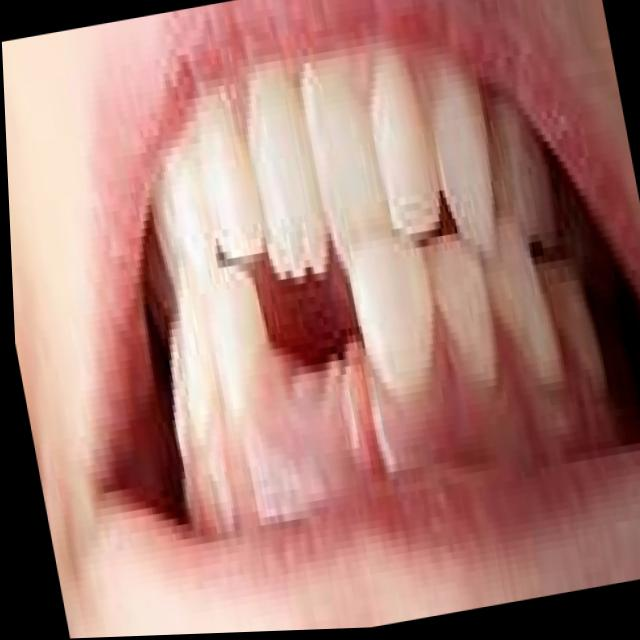hypodontia: (173, 254, 457, 508)
